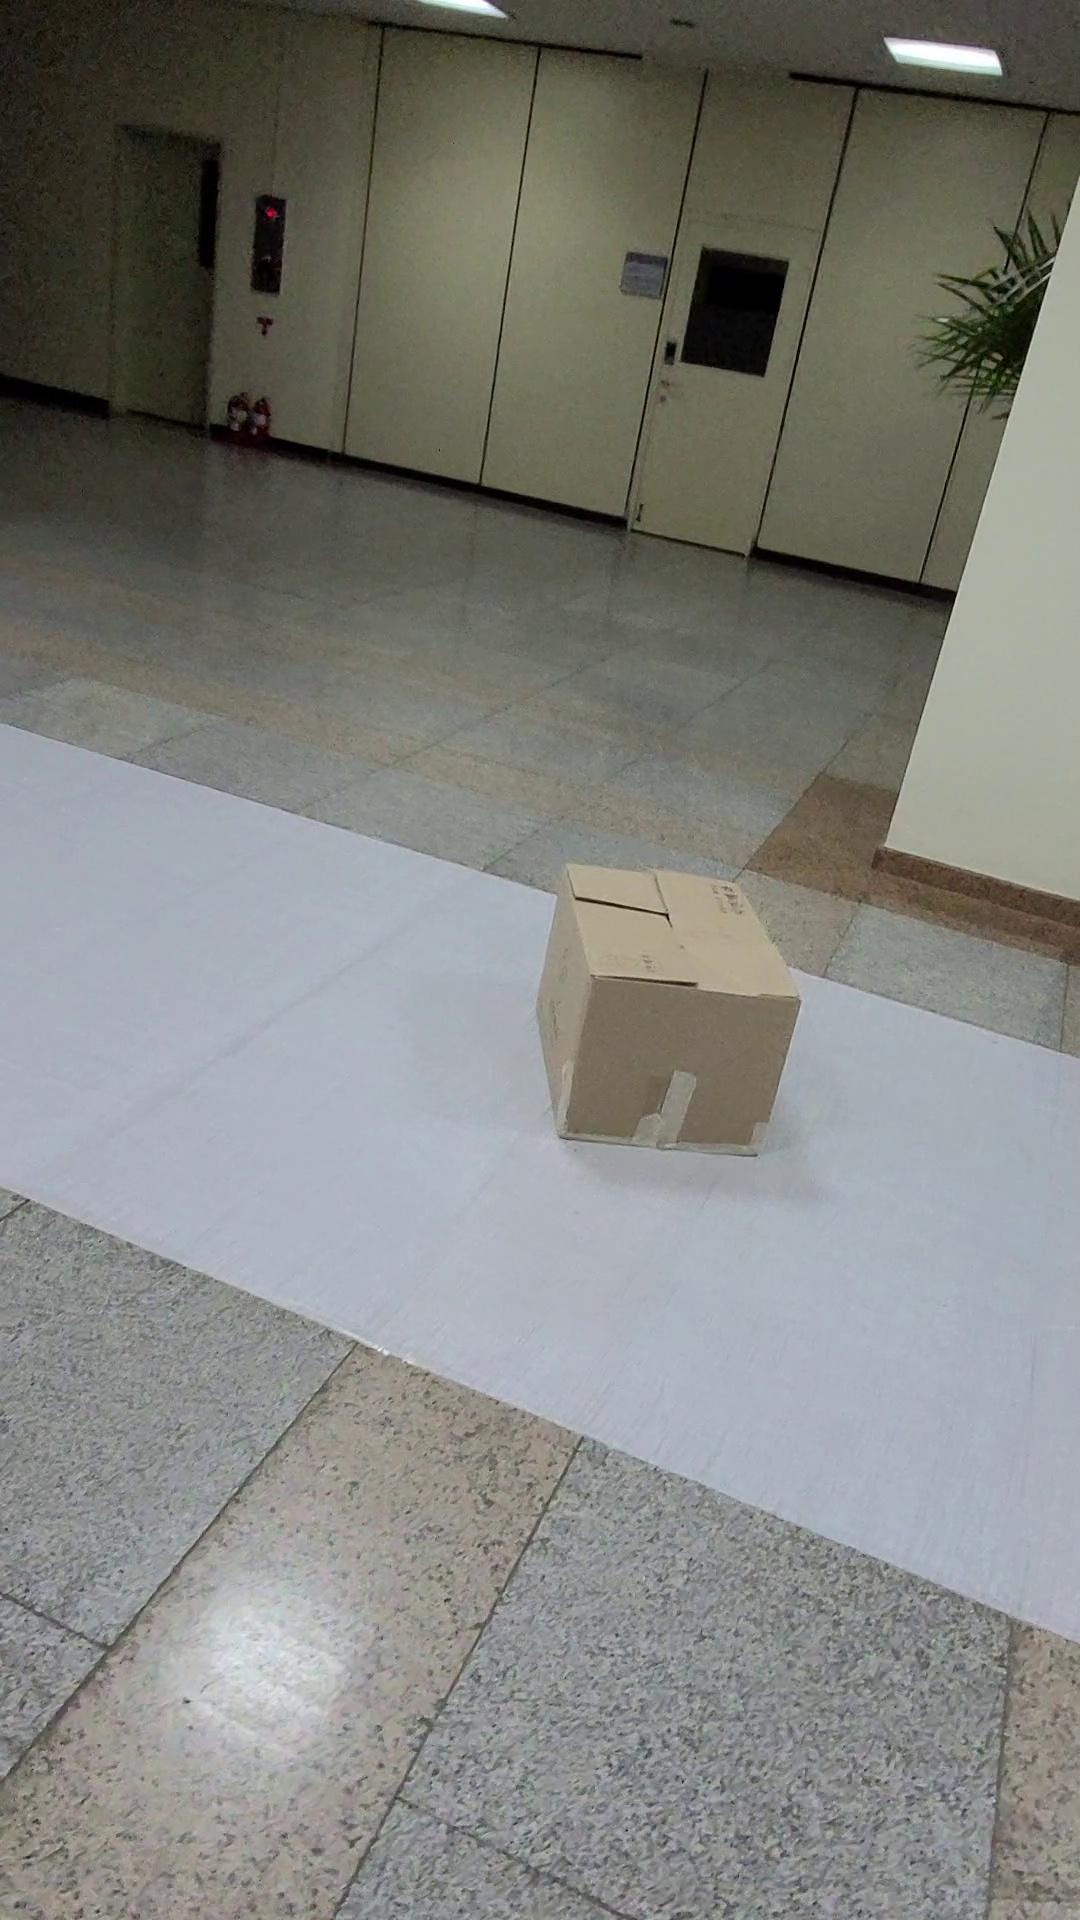Box: (535, 829, 804, 1197)
